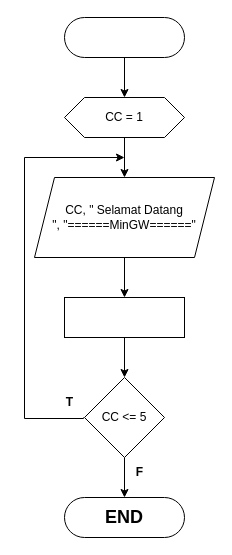
Some shapes in this 232 by 555 pixel diagram are drawn without their labels. The shapes that lost their labels are listed below. From the top down, each one's centre as x and y in pixels, then its label:
the point at 124,37: START
the point at 124,317: CC ß CC + 1
